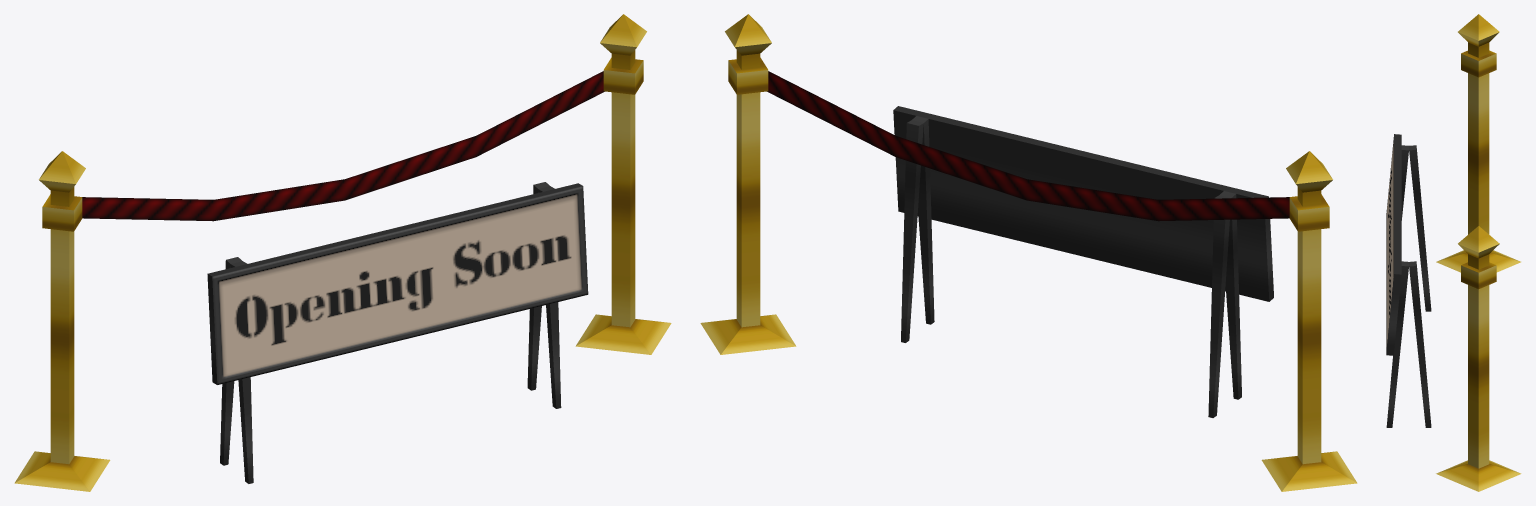
File: Storefront_OpeningSoon.fbx
3 views of the same model, side by side, from view 1: azimuth 30°, elevation 25°; view 2: azimuth 150°, elevation 25°; view 3: azimuth 270°, elevation 25° (orthographic). The views are drawn at different scales.
Parts seen in each view (by area): view 1: Hall.001; view 2: Hall.001; view 3: Hall.001.
Boxes of the visible parts, left/top/right/bottom form: Hall.001: left=14, top=14, right=671, bottom=491; Hall.001: left=700, top=14, right=1357, bottom=491; Hall.001: left=1386, top=14, right=1521, bottom=491.
Bounding box in the file's own units: 277 × 129 × 63.92.
